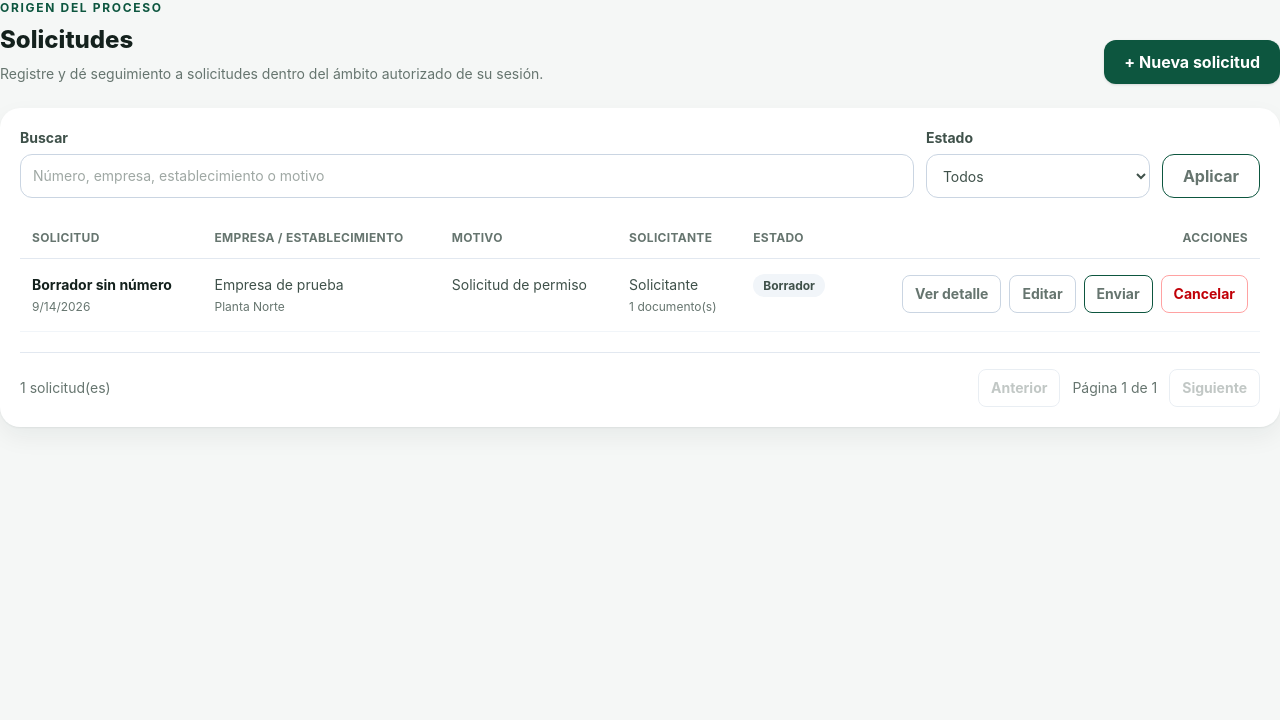
RequestsManagement › muestra el detalle y los documentos guardados de la solicitud
What coordinates should you click on to do the following:
click the button "Ver detalle"
I would click on:
 (952, 294)
Its box is [902,275,1002,313].
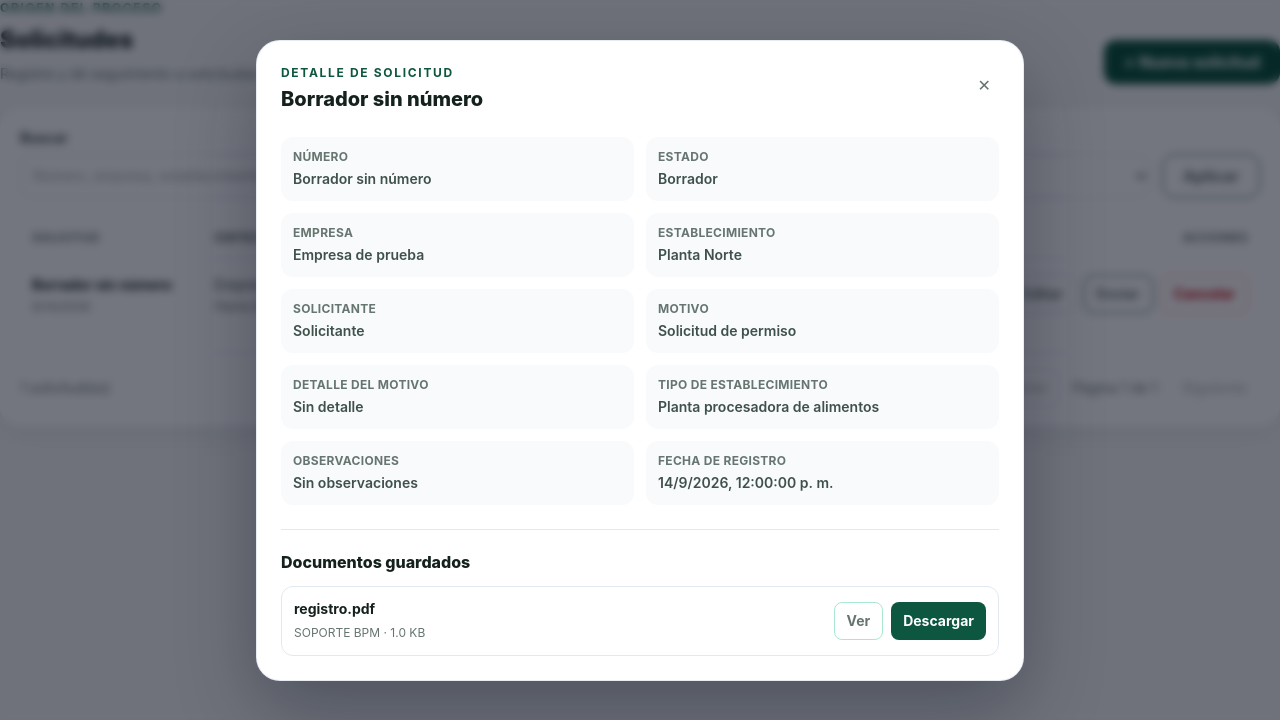
Expected: the text "Planta Norte" is shown 2 times, [214,299,285,314]; [658,246,742,262]
Expected: the heading "Borrador sin número" is shown, [281,84,483,112]
Expected: the text "registro.pdf" is shown, [294,600,375,616]
